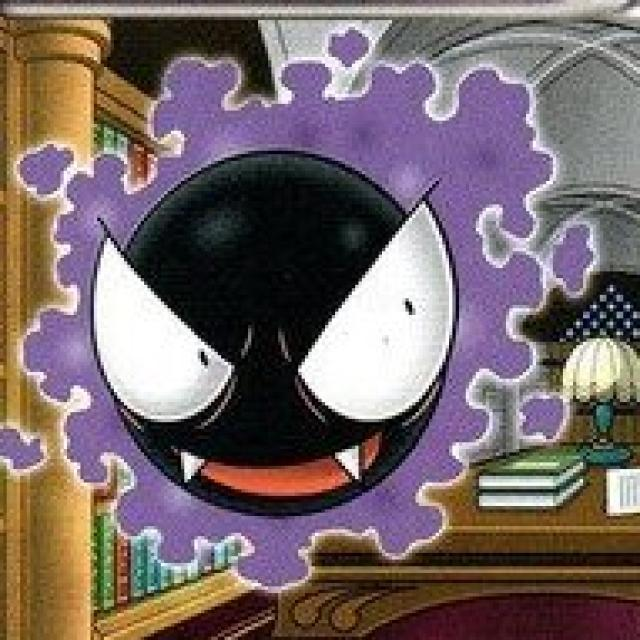Gastly: (40, 60, 548, 561)
